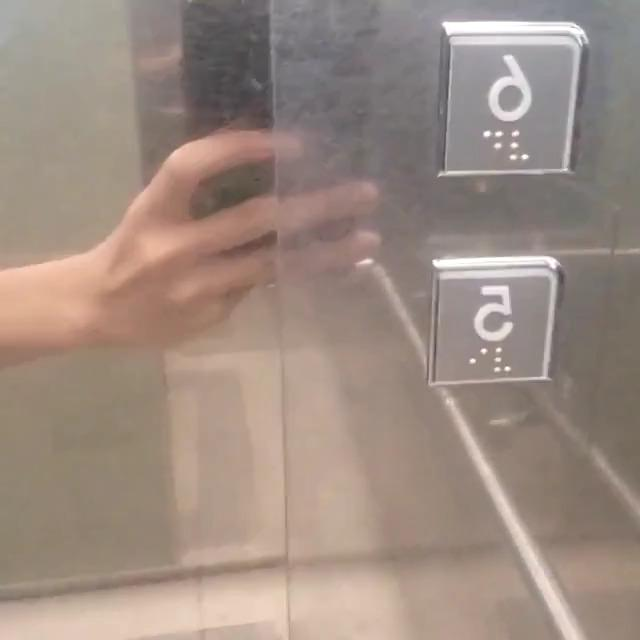button: (439, 26, 575, 176), (427, 253, 563, 384)
